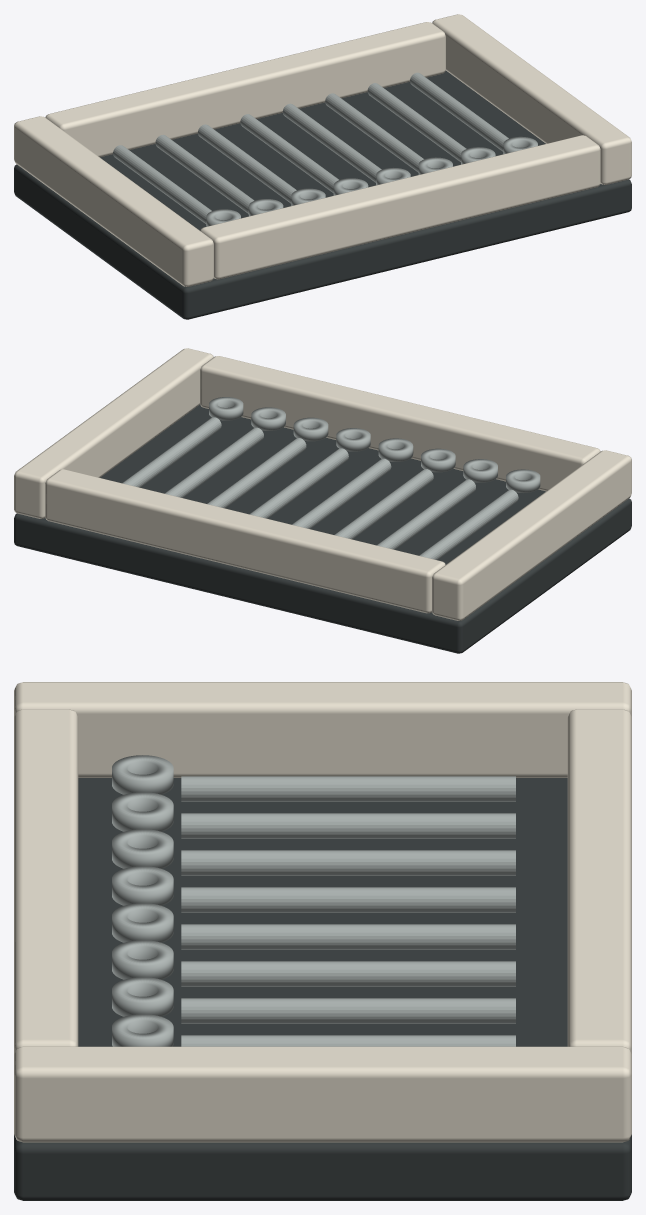
File: indoor-climbing-and-bouldering-gym-indoor-climbing-and-b919be22__31535.glb
3 views of the same model, one above another, from view 1: azimuth 30°, elevation 25°; view 2: azimuth 150°, elevation 25°; view 3: azimuth 270°, elevation 25° (orthographic). The views are drawn at different scales.
Parts seen in each view (by area): view 1: indoor-climbing-and-bouldering-gym-hold-fastener-kit; view 2: indoor-climbing-and-bouldering-gym-hold-fastener-kit; view 3: indoor-climbing-and-bouldering-gym-hold-fastener-kit.
Boxes of the visible parts, <box> form: indoor-climbing-and-bouldering-gym-hold-fastener-kit: <box>14,14,631,319</box>; indoor-climbing-and-bouldering-gym-hold-fastener-kit: <box>14,348,631,653</box>; indoor-climbing-and-bouldering-gym-hold-fastener-kit: <box>14,682,631,1200</box>.
Size of the model in its own units: 0.36 by 0.0574 by 0.24.
